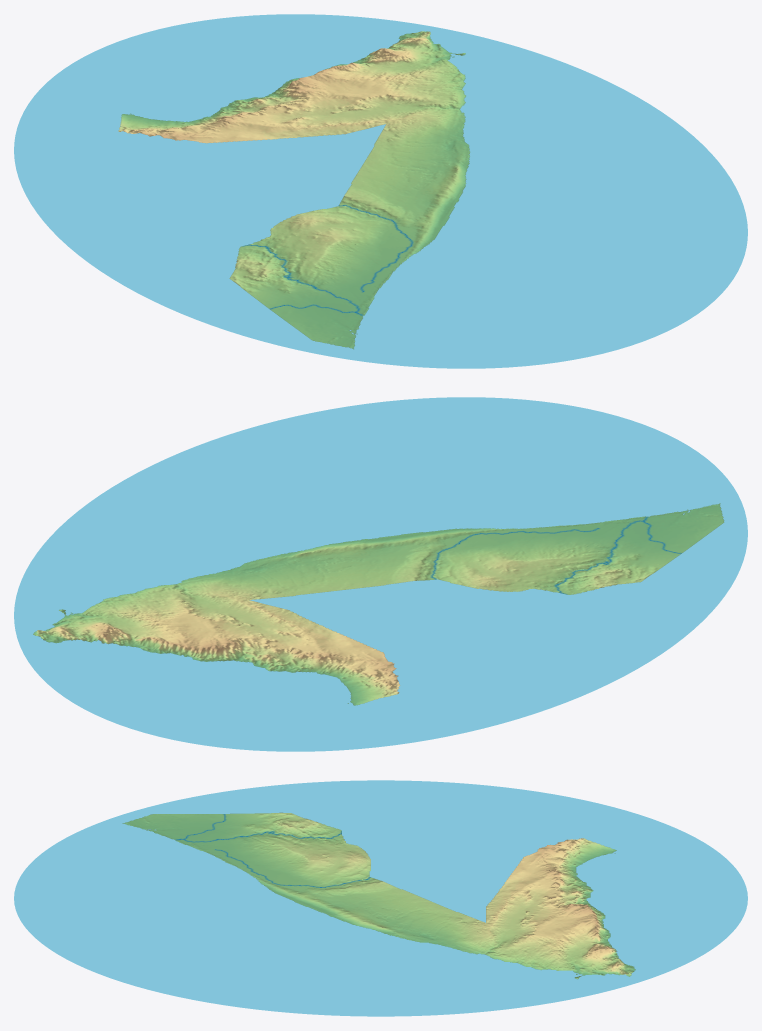
The model's file is SOM-terrain.glb.
3 views of the same model, one above another, from view 1: azimuth 30°, elevation 25°; view 2: azimuth 150°, elevation 25°; view 3: azimuth 270°, elevation 25° (orthographic). The views are drawn at different scales.
Parts seen in each view (by area): view 1: Relevo com hidrografia; view 2: Relevo com hidrografia; view 3: Relevo com hidrografia.
Boxes of the visible parts, box(x1,y1,x2,y2) form: Relevo com hidrografia: box(14, 14, 747, 368); Relevo com hidrografia: box(14, 397, 747, 751); Relevo com hidrografia: box(14, 780, 747, 1016).
Bounding box in the file's own units: 1.75 × 0.0283 × 2.3.
2 materials, 1 textured.
